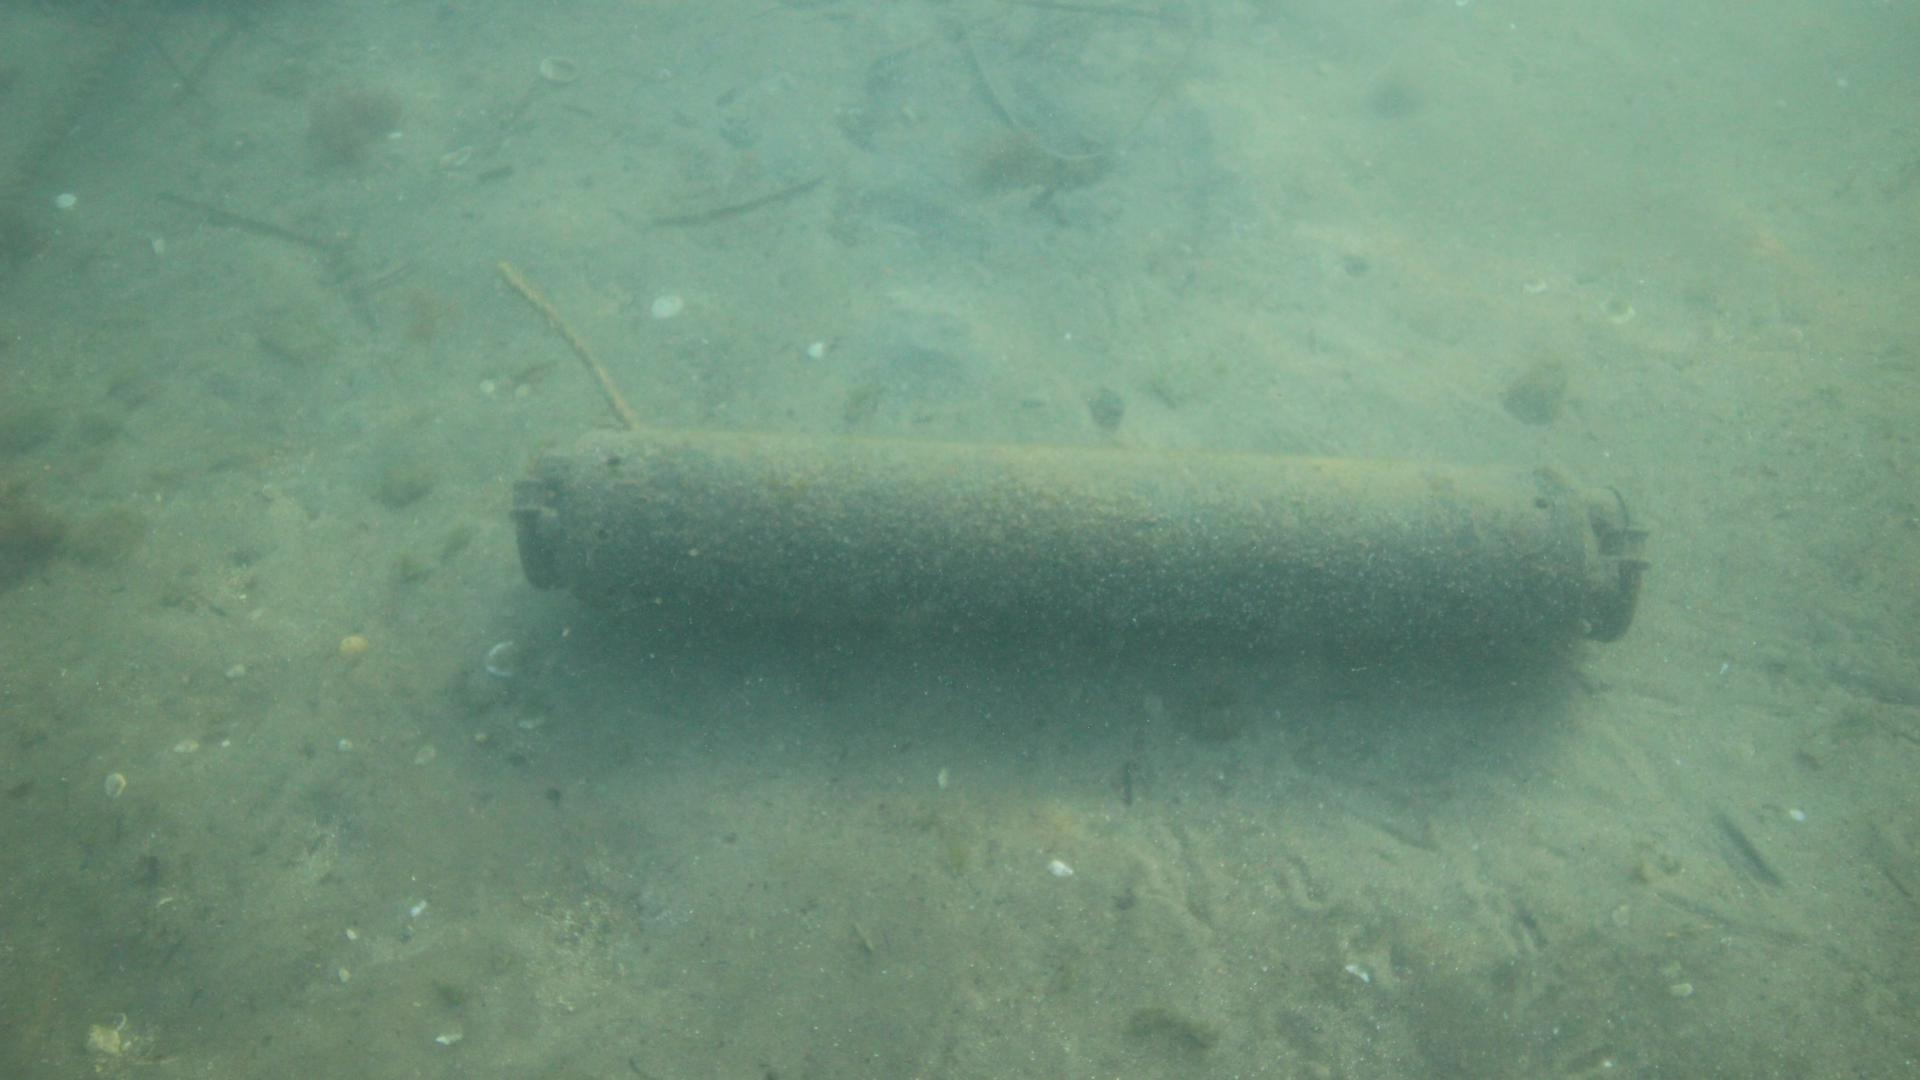eel fish trap: (508, 426, 1651, 653)
rope: (496, 258, 638, 429)
